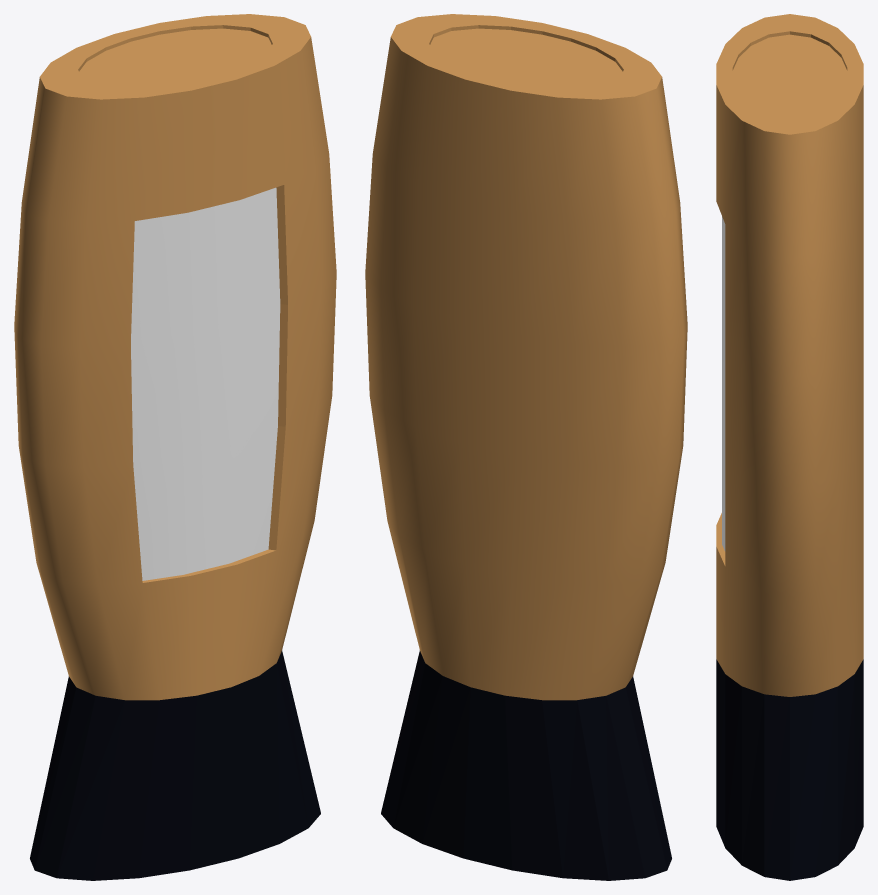
Rendered from squeezy.FBX.
The picture shows the model from 3 angles, left to right: view 1: azimuth 30°, elevation 25°; view 2: azimuth 150°, elevation 25°; view 3: azimuth 270°, elevation 25°; orthographic projection. The views are drawn at different scales.
Visible parts, largest first — view 1: Cylinder001; view 2: Cylinder001; view 3: Cylinder001.
Boxes of the visible parts, x1=… form: Cylinder001: x1=14, y1=14, x2=336, y2=880; Cylinder001: x1=365, y1=14, x2=687, y2=880; Cylinder001: x1=716, y1=14, x2=863, y2=880.
Bounding box in the file's own units: 10.84 × 25.65 × 4.61.
